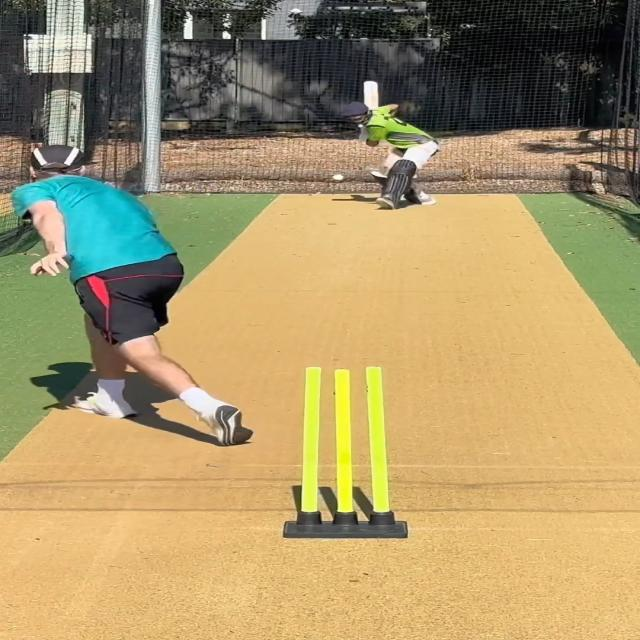ball: (330, 172, 346, 183)
stump: (278, 366, 408, 540)
